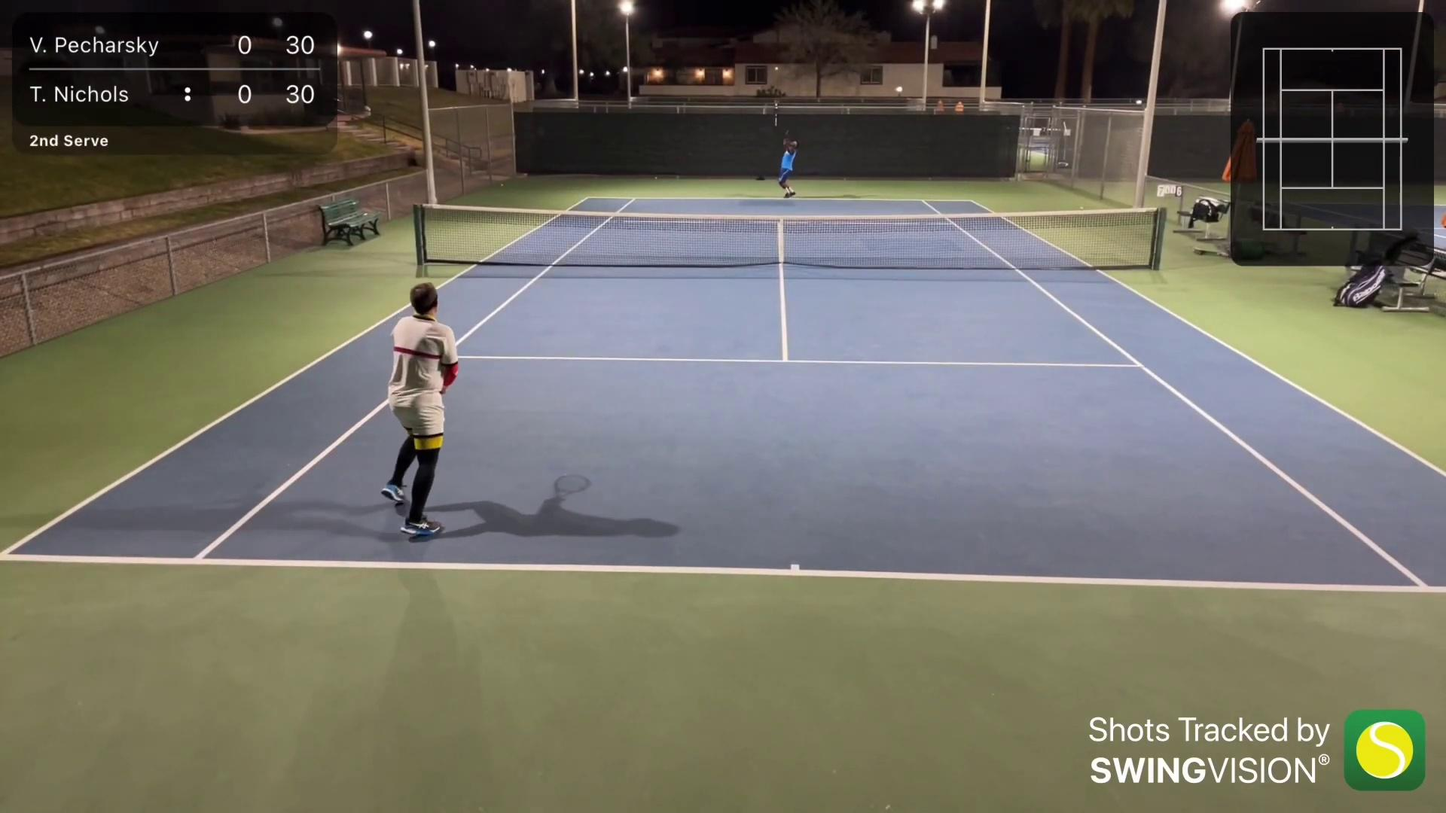ball: (499, 181, 505, 188), (653, 176, 660, 181), (774, 66, 779, 71)
